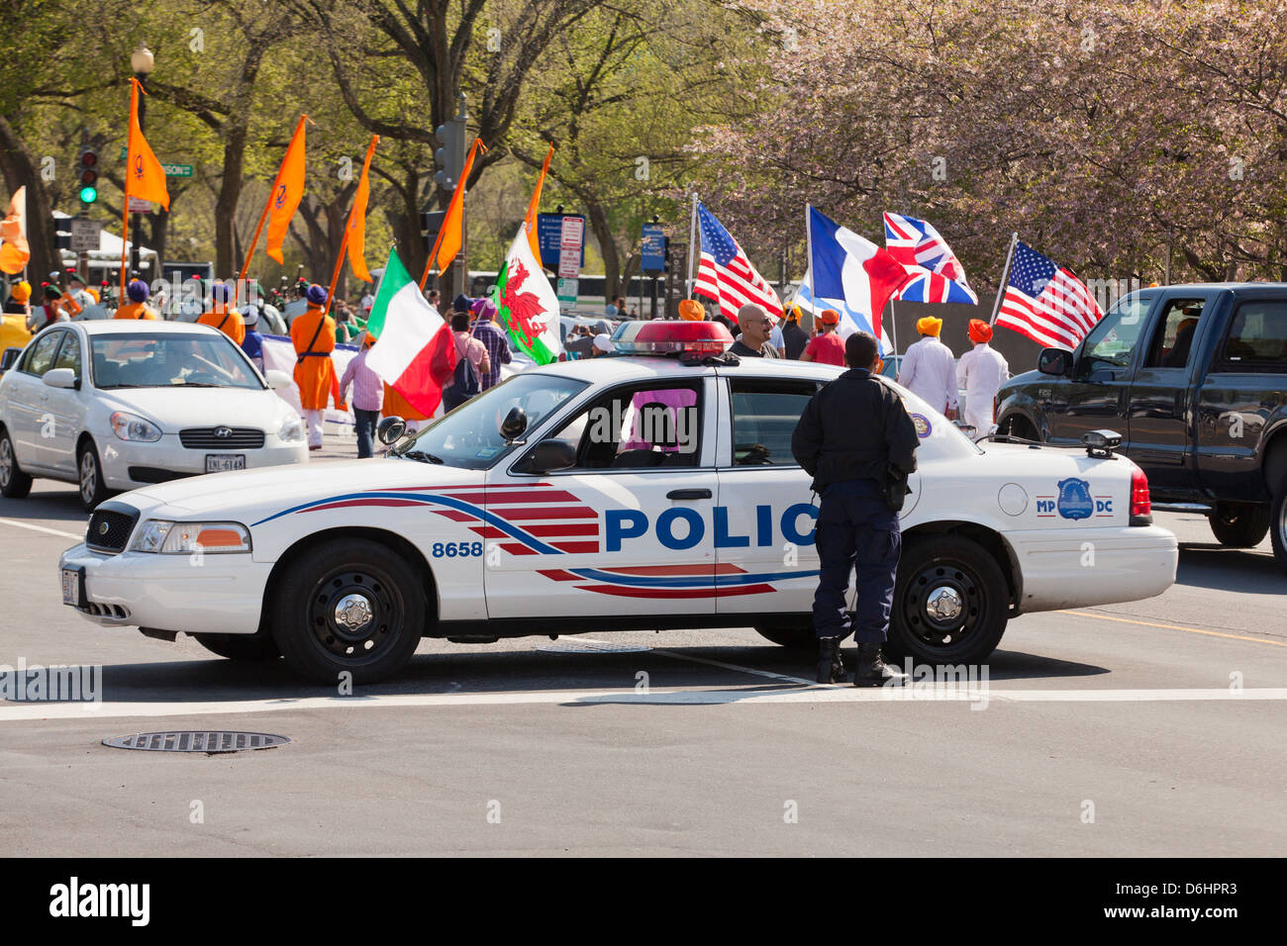Car: (51, 322, 837, 660), (991, 279, 1287, 576)
Person: (1, 313, 305, 476), (798, 326, 911, 697), (281, 280, 344, 448)
